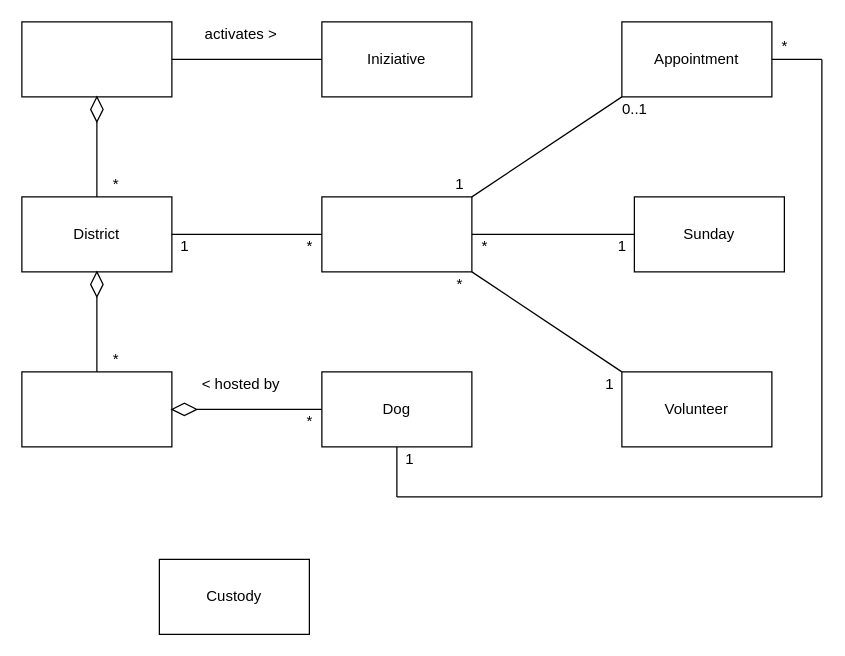
Some shapes in this 845 by 656 pixel diagram are drawn without their labels. The shapes that lost their labels are listed below. From the top down, each one's centre as x and y in pixels, then its label:
the point at 96,59: Municipality
the point at 396,234: Availability
the point at 96,409: Kennels
